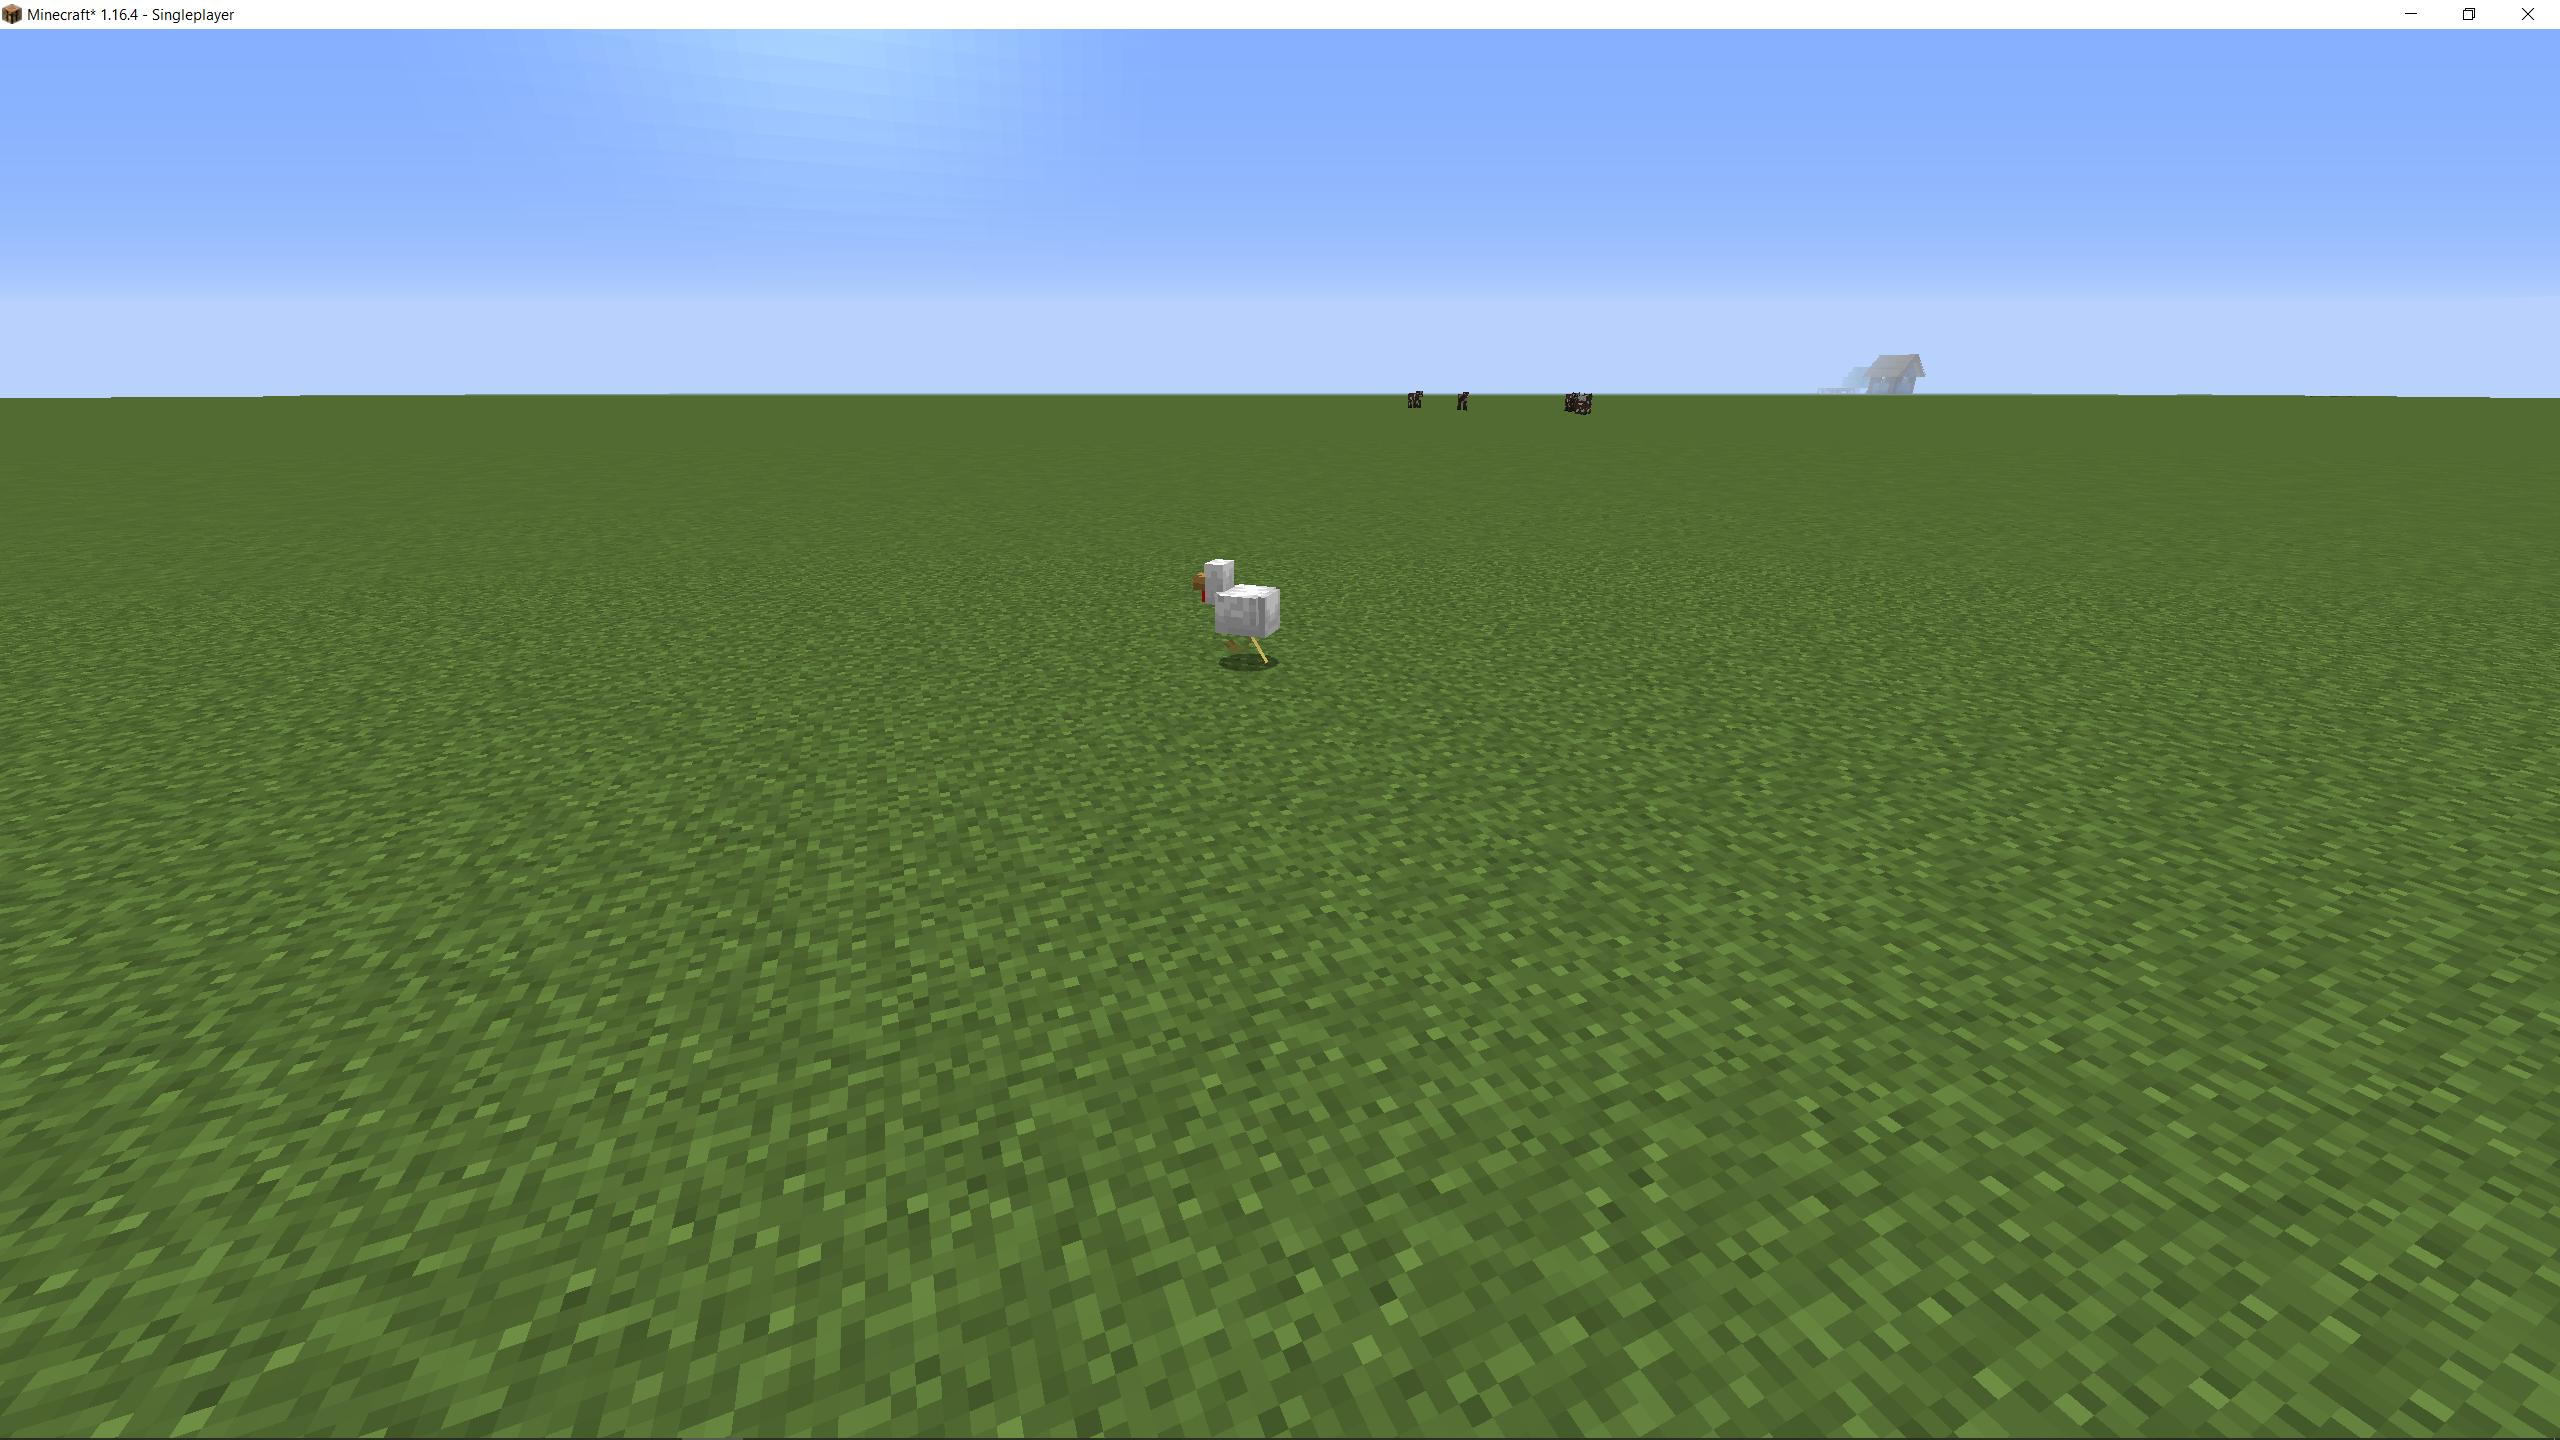chicken: (1189, 545, 1291, 672)
